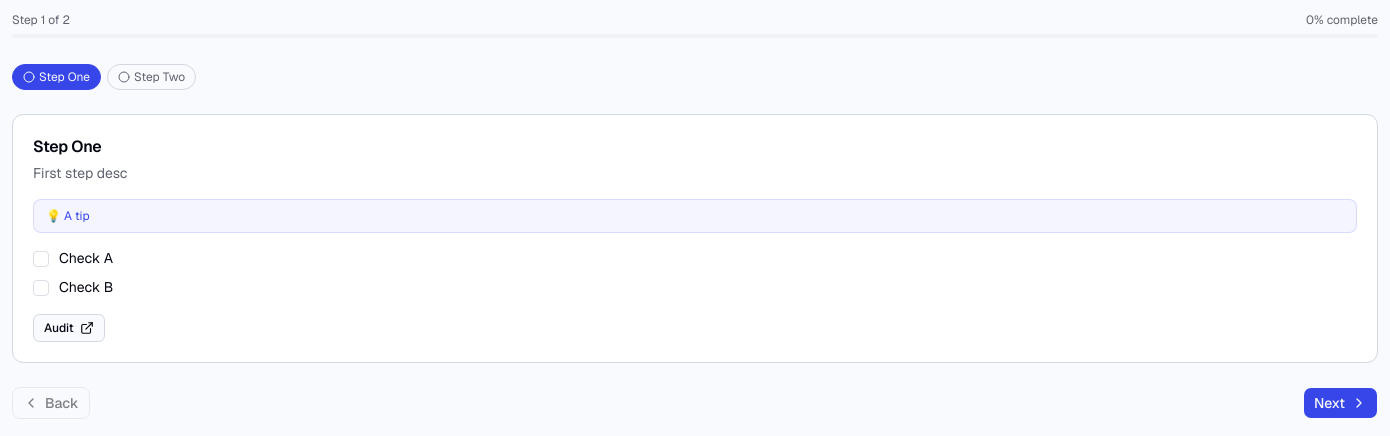
Scenario: ApplicationStepper › navigates to the next step
Click the button "Next" at (1340, 402), box top-left (1303, 386), bottom-right (1378, 418)
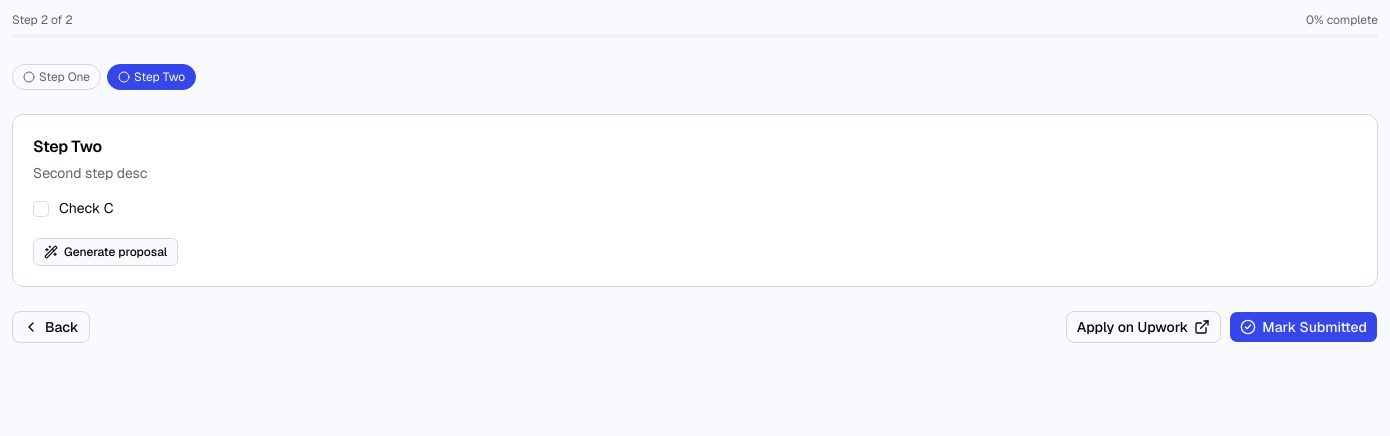
Expected: the text "Second step desc" is shown, top-left (33, 164), bottom-right (147, 182)
Expected: the text "Step 2 of 2" is shown, top-left (12, 12), bottom-right (73, 28)
